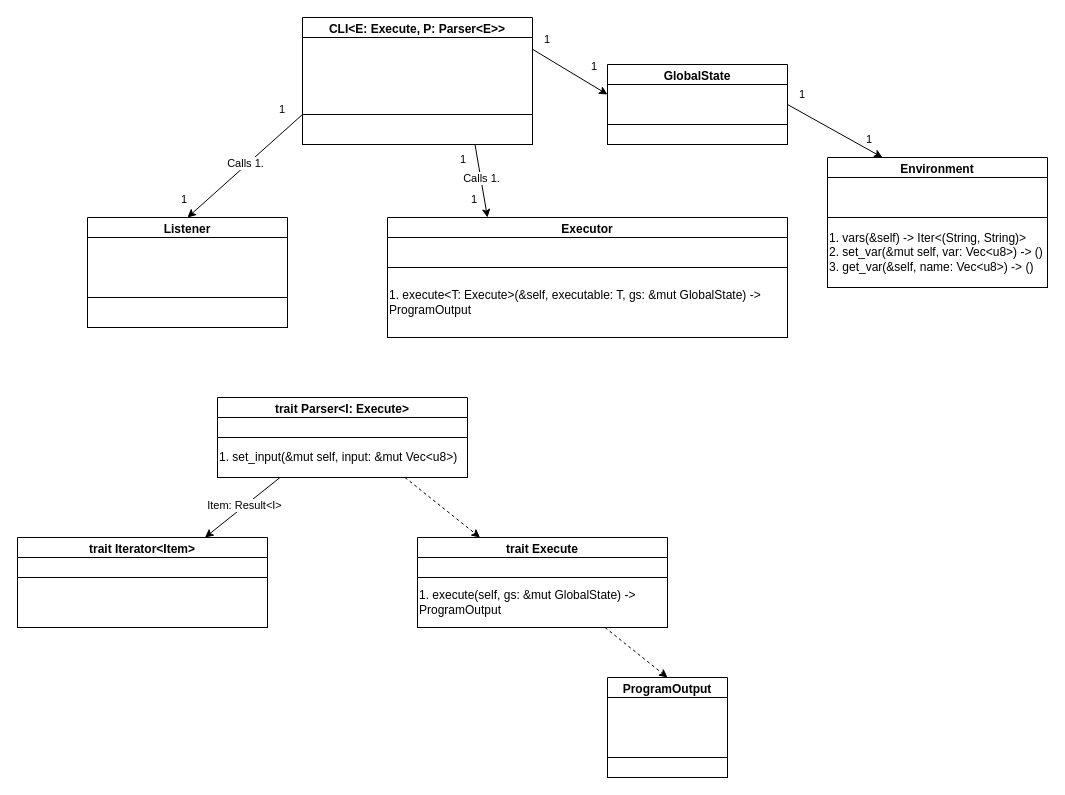
This 1065x795 diagram has some shape labels left out. Each missing label, with the centre of its shape:
1. listen(&self) -> String: point (187, 312)
1. next(&mut self) -> Option<Item>: point (142, 602)
1. start(): point (417, 129)
listener: Listener parser: P global_state: GlobalState executor: Executor: point (417, 75)
map: HashMap<String, String>: point (937, 197)
pub code: i32 pub stdout: Vec<u8> pub stderr: Vec<u8>: point (667, 727)
pub environment: Environment: point (697, 104)
